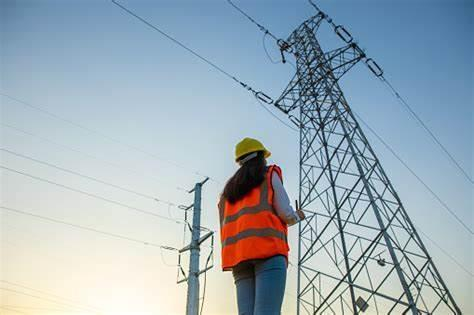power_tower: (274, 8, 465, 315)
